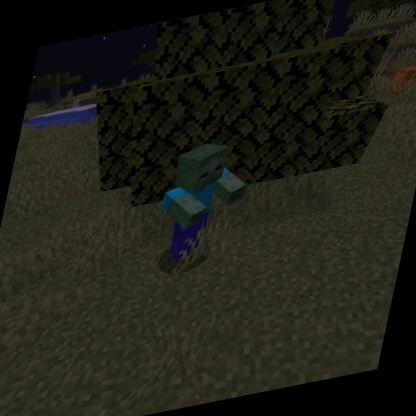zombie: (141, 130, 261, 277)
